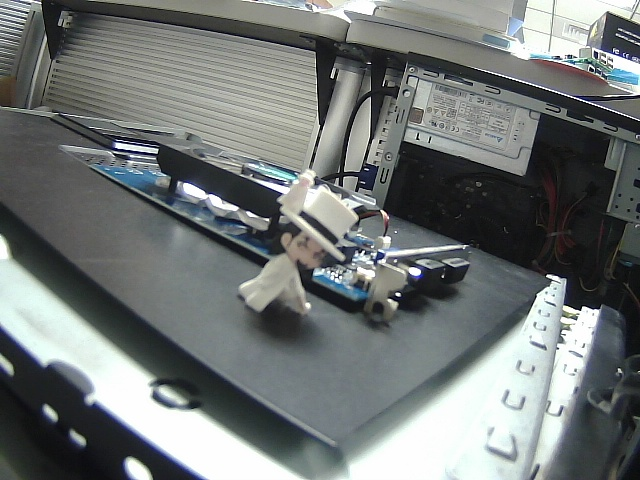lucci: (227, 165, 363, 326)
